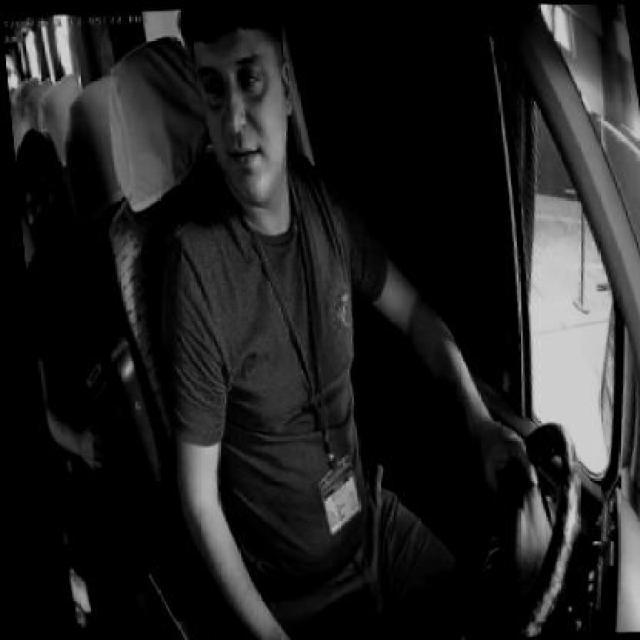Inattentive: (172, 0, 307, 216)
